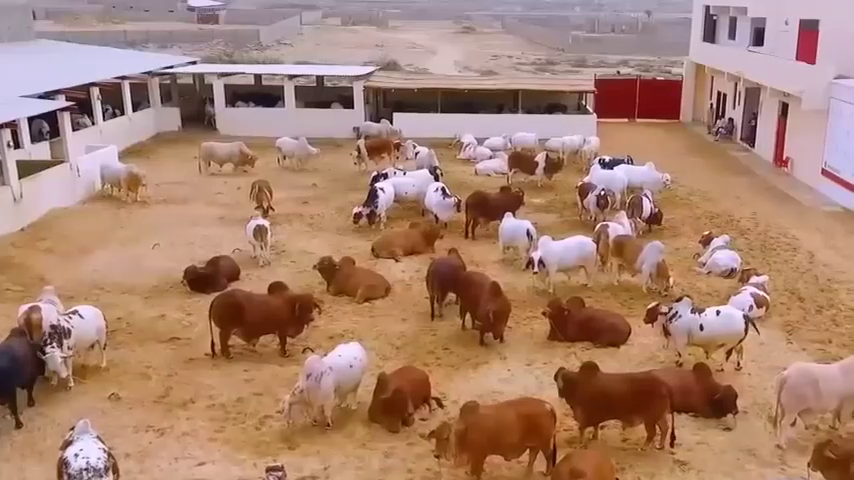bo: (423, 384, 558, 479), (550, 353, 675, 451), (198, 276, 322, 364), (268, 336, 376, 435), (768, 339, 854, 450), (645, 292, 759, 368), (594, 215, 679, 296), (649, 352, 740, 423), (536, 292, 635, 353), (46, 304, 111, 387), (524, 230, 609, 293), (307, 248, 397, 307), (369, 352, 434, 430), (537, 424, 627, 480), (449, 268, 513, 345), (3, 326, 47, 428), (53, 415, 123, 478), (365, 208, 448, 261), (466, 178, 532, 238), (171, 246, 243, 293), (346, 170, 395, 234), (420, 241, 458, 323), (719, 261, 772, 318), (90, 155, 153, 202), (191, 135, 263, 173), (14, 275, 62, 332), (378, 158, 436, 203), (617, 158, 675, 202), (493, 210, 542, 262), (620, 183, 671, 231), (690, 226, 736, 279), (272, 126, 332, 166), (503, 149, 565, 187), (579, 159, 635, 200), (240, 166, 283, 219), (571, 174, 613, 228), (802, 436, 854, 475), (420, 176, 464, 222), (346, 128, 392, 172), (400, 127, 442, 175), (239, 213, 278, 264), (352, 108, 402, 140), (547, 127, 582, 162), (471, 153, 510, 179), (60, 105, 91, 136), (501, 123, 534, 149), (580, 129, 607, 160), (457, 136, 489, 161), (26, 114, 50, 140), (451, 127, 478, 147)
